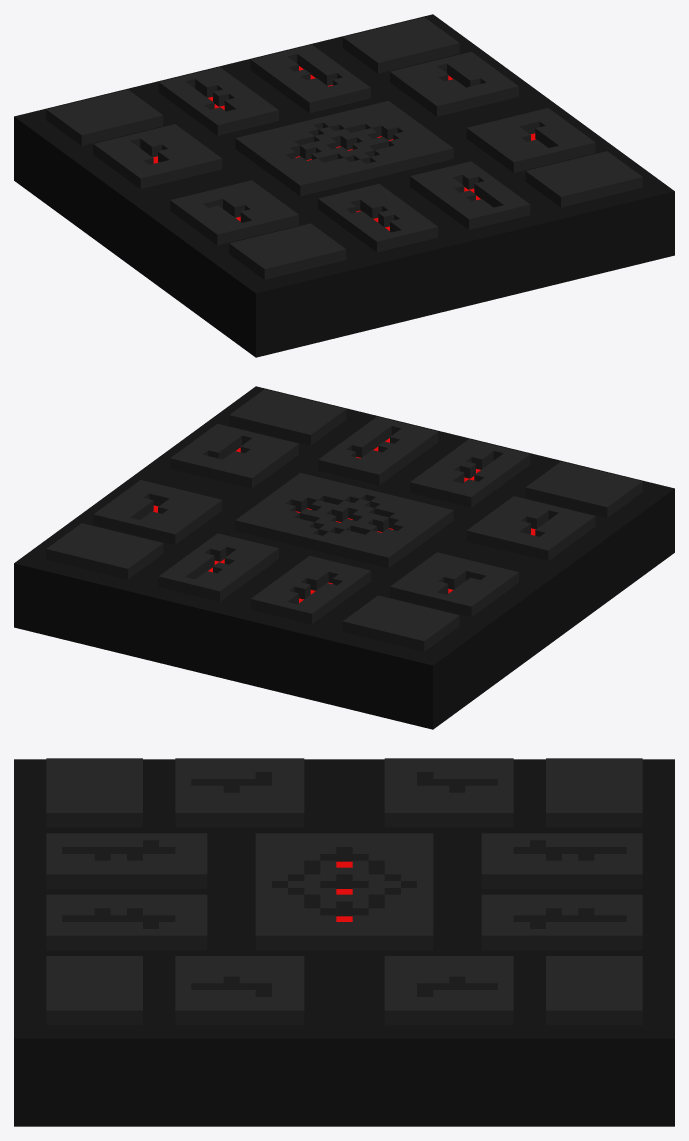
Rendered from RuneFloor3.obj.
3 renders of one model, top to bottom at view 1: azimuth 30°, elevation 25°; view 2: azimuth 150°, elevation 25°; view 3: azimuth 270°, elevation 25°, orthographic. The views are drawn at different scales.
Size of the model in its own units: 41 by 7 by 41.
1 material, 1 textured.
